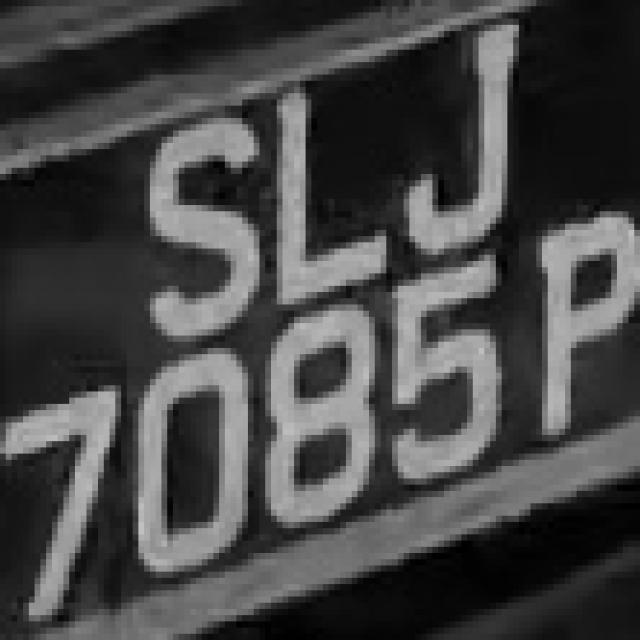0: (110, 323, 265, 572)
5: (380, 255, 496, 497)
7: (0, 367, 121, 609)
8: (259, 286, 386, 534)
J: (398, 18, 525, 248)
L: (260, 75, 380, 298)
P: (525, 199, 634, 441)
S: (121, 100, 248, 330)
